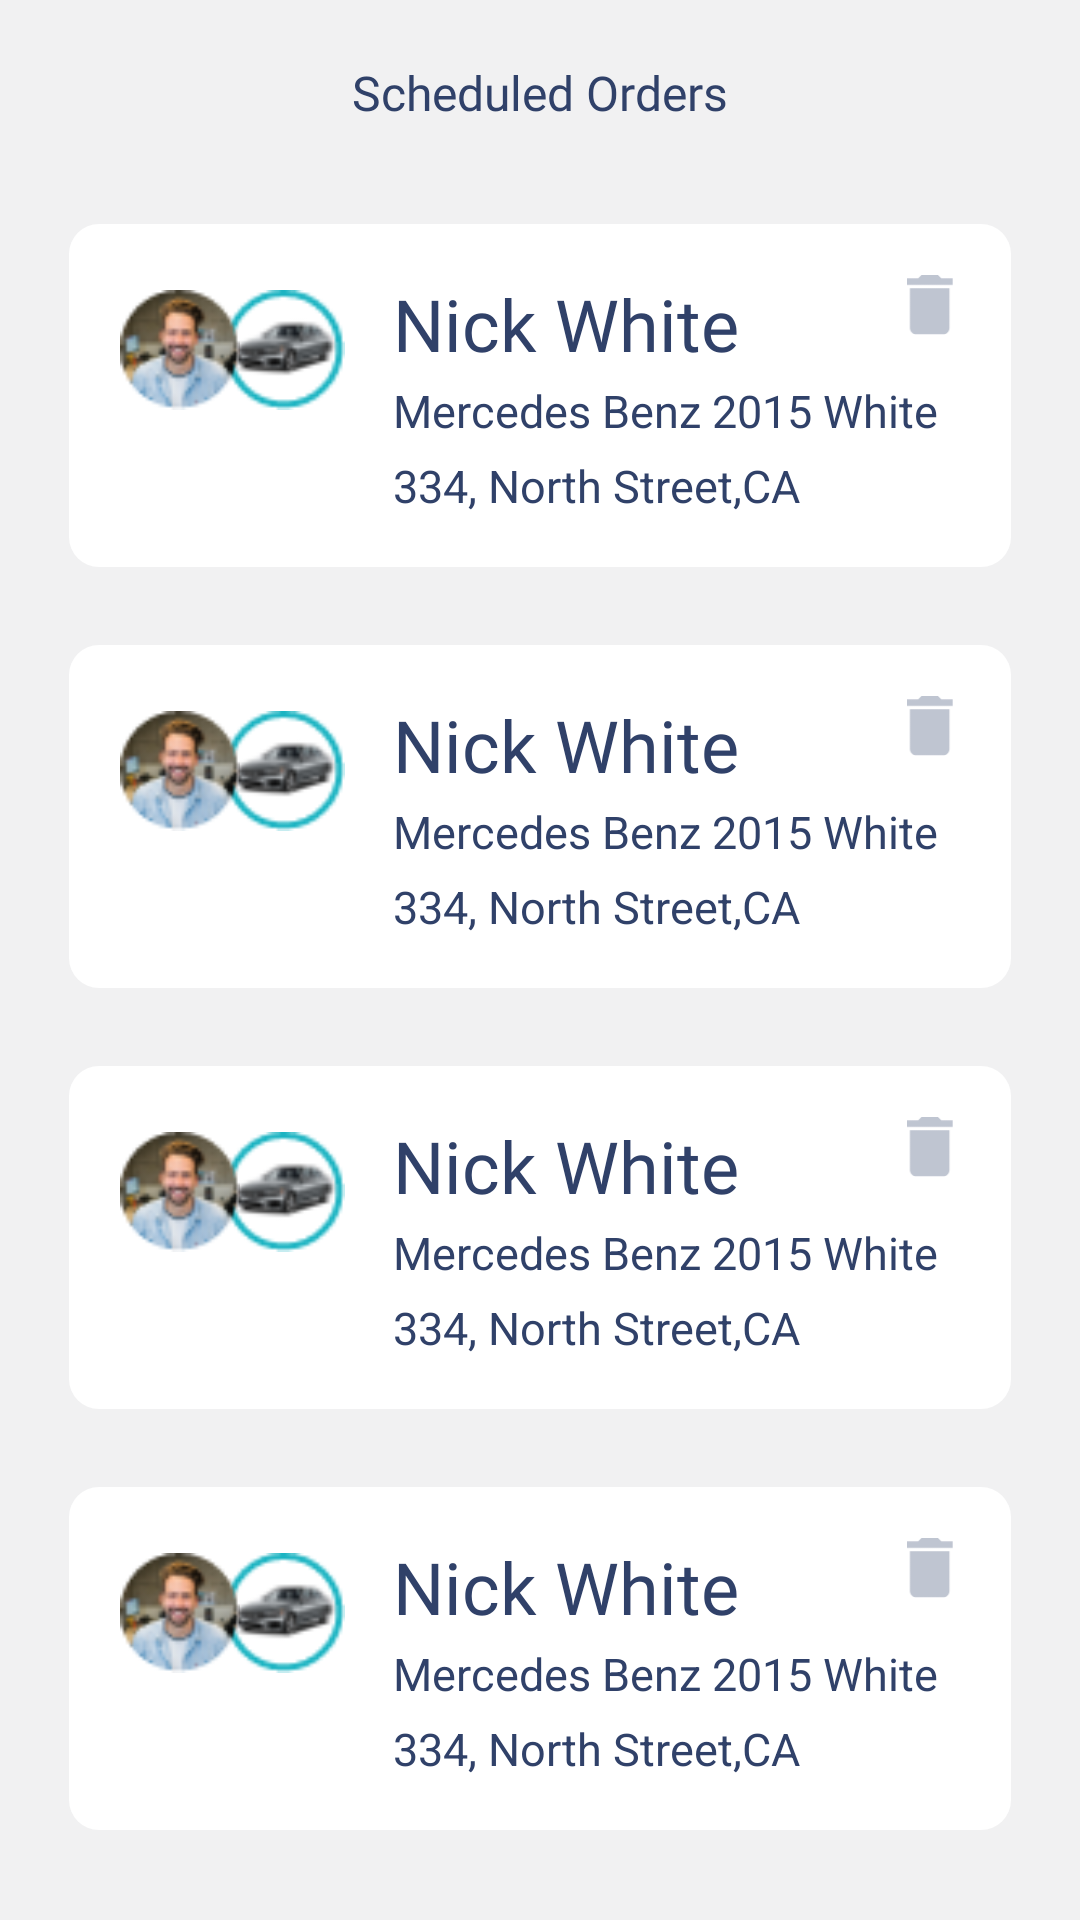

Screen size 1080x1920. Icon name, then its center in pixels as [x,y]:
carimgdelete: [285,350], [285,771], [285,1192], [285,1613]
delete: [930,304], [930,725], [930,1146], [930,1567]
userimgdelete: [180,349], [180,770], [180,1191], [180,1612]
